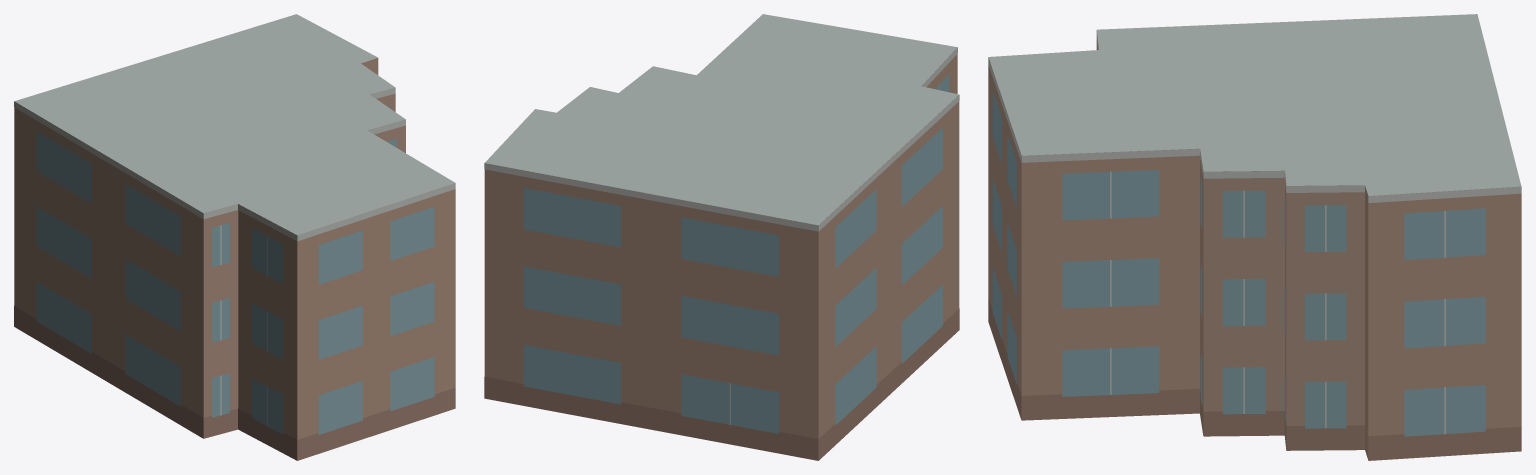
The model's file is survey-upis-32632511.glb.
3 renders of one model, left to right at view 1: azimuth 30°, elevation 25°; view 2: azimuth 150°, elevation 25°; view 3: azimuth 270°, elevation 25°, orthographic. The views are drawn at different scales.
Visible parts, largest first — view 1: survey-upis-32632511.tmp; view 2: survey-upis-32632511.tmp; view 3: survey-upis-32632511.tmp.
Part boxes in pixels (box(x1,y1,x2,y2)): survey-upis-32632511.tmp: box(14, 14, 455, 460); survey-upis-32632511.tmp: box(484, 14, 959, 460); survey-upis-32632511.tmp: box(988, 14, 1521, 460).
Size of the model in its own units: 13.5 by 9.15 by 16.71.
